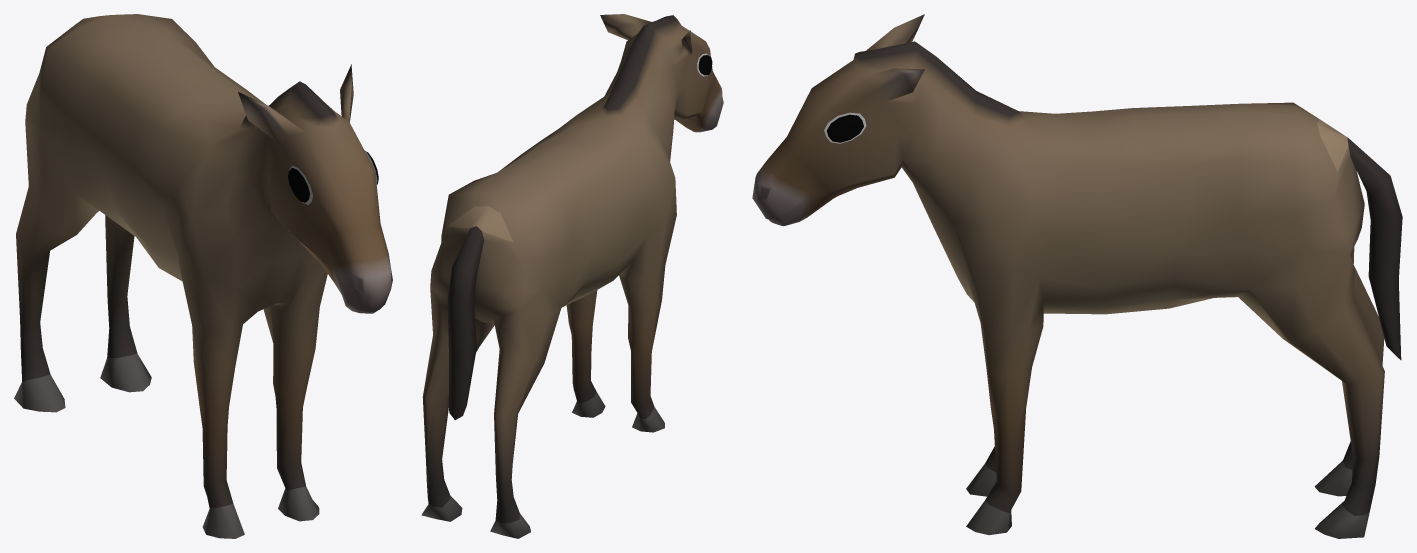
Rendered from animals-animals-wildhorse_v1.glb.
3 renders of one model, left to right at view 1: azimuth 30°, elevation 25°; view 2: azimuth 150°, elevation 25°; view 3: azimuth 270°, elevation 25°, orthographic. The views are drawn at different scales.
Visible parts, largest first — view 1: WildHorse.002; view 2: WildHorse.002, WildHorse.001; view 3: WildHorse.002, WildHorse.001.
Boxes of the visible parts, left/top/right/bottom form: WildHorse.002: left=14, top=14, right=392, bottom=538; WildHorse.002: left=421, top=14, right=723, bottom=538; WildHorse.001: left=447, top=206, right=513, bottom=242; WildHorse.002: left=752, top=14, right=1402, bottom=538; WildHorse.001: left=1317, top=119, right=1348, bottom=171.
Size of the model in its own units: 0.568 by 1.79 by 2.26.
